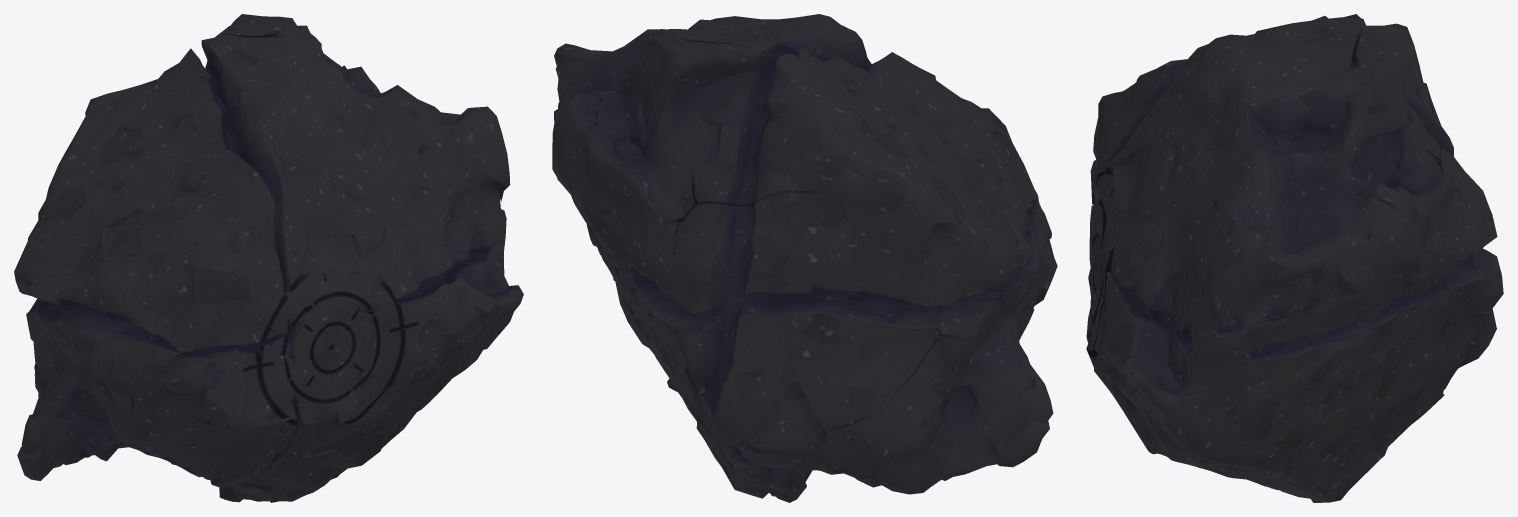
File: rock-rune-fragment.glb
The picture shows the model from 3 angles, left to right: view 1: azimuth 30°, elevation 25°; view 2: azimuth 150°, elevation 25°; view 3: azimuth 270°, elevation 25°; orthographic projection. The views are drawn at different scales.
Visible parts, largest first — view 1: Rock_E_RuneFragment; view 2: Rock_E_RuneFragment; view 3: Rock_E_RuneFragment.
Boxes of the visible parts, <box> form: Rock_E_RuneFragment: <box>14,14,523,502</box>; Rock_E_RuneFragment: <box>552,14,1057,502</box>; Rock_E_RuneFragment: <box>1086,14,1503,502</box>.
Size of the model in its own units: 1.29 by 1.16 by 0.9117.
1 material, 1 textured.
